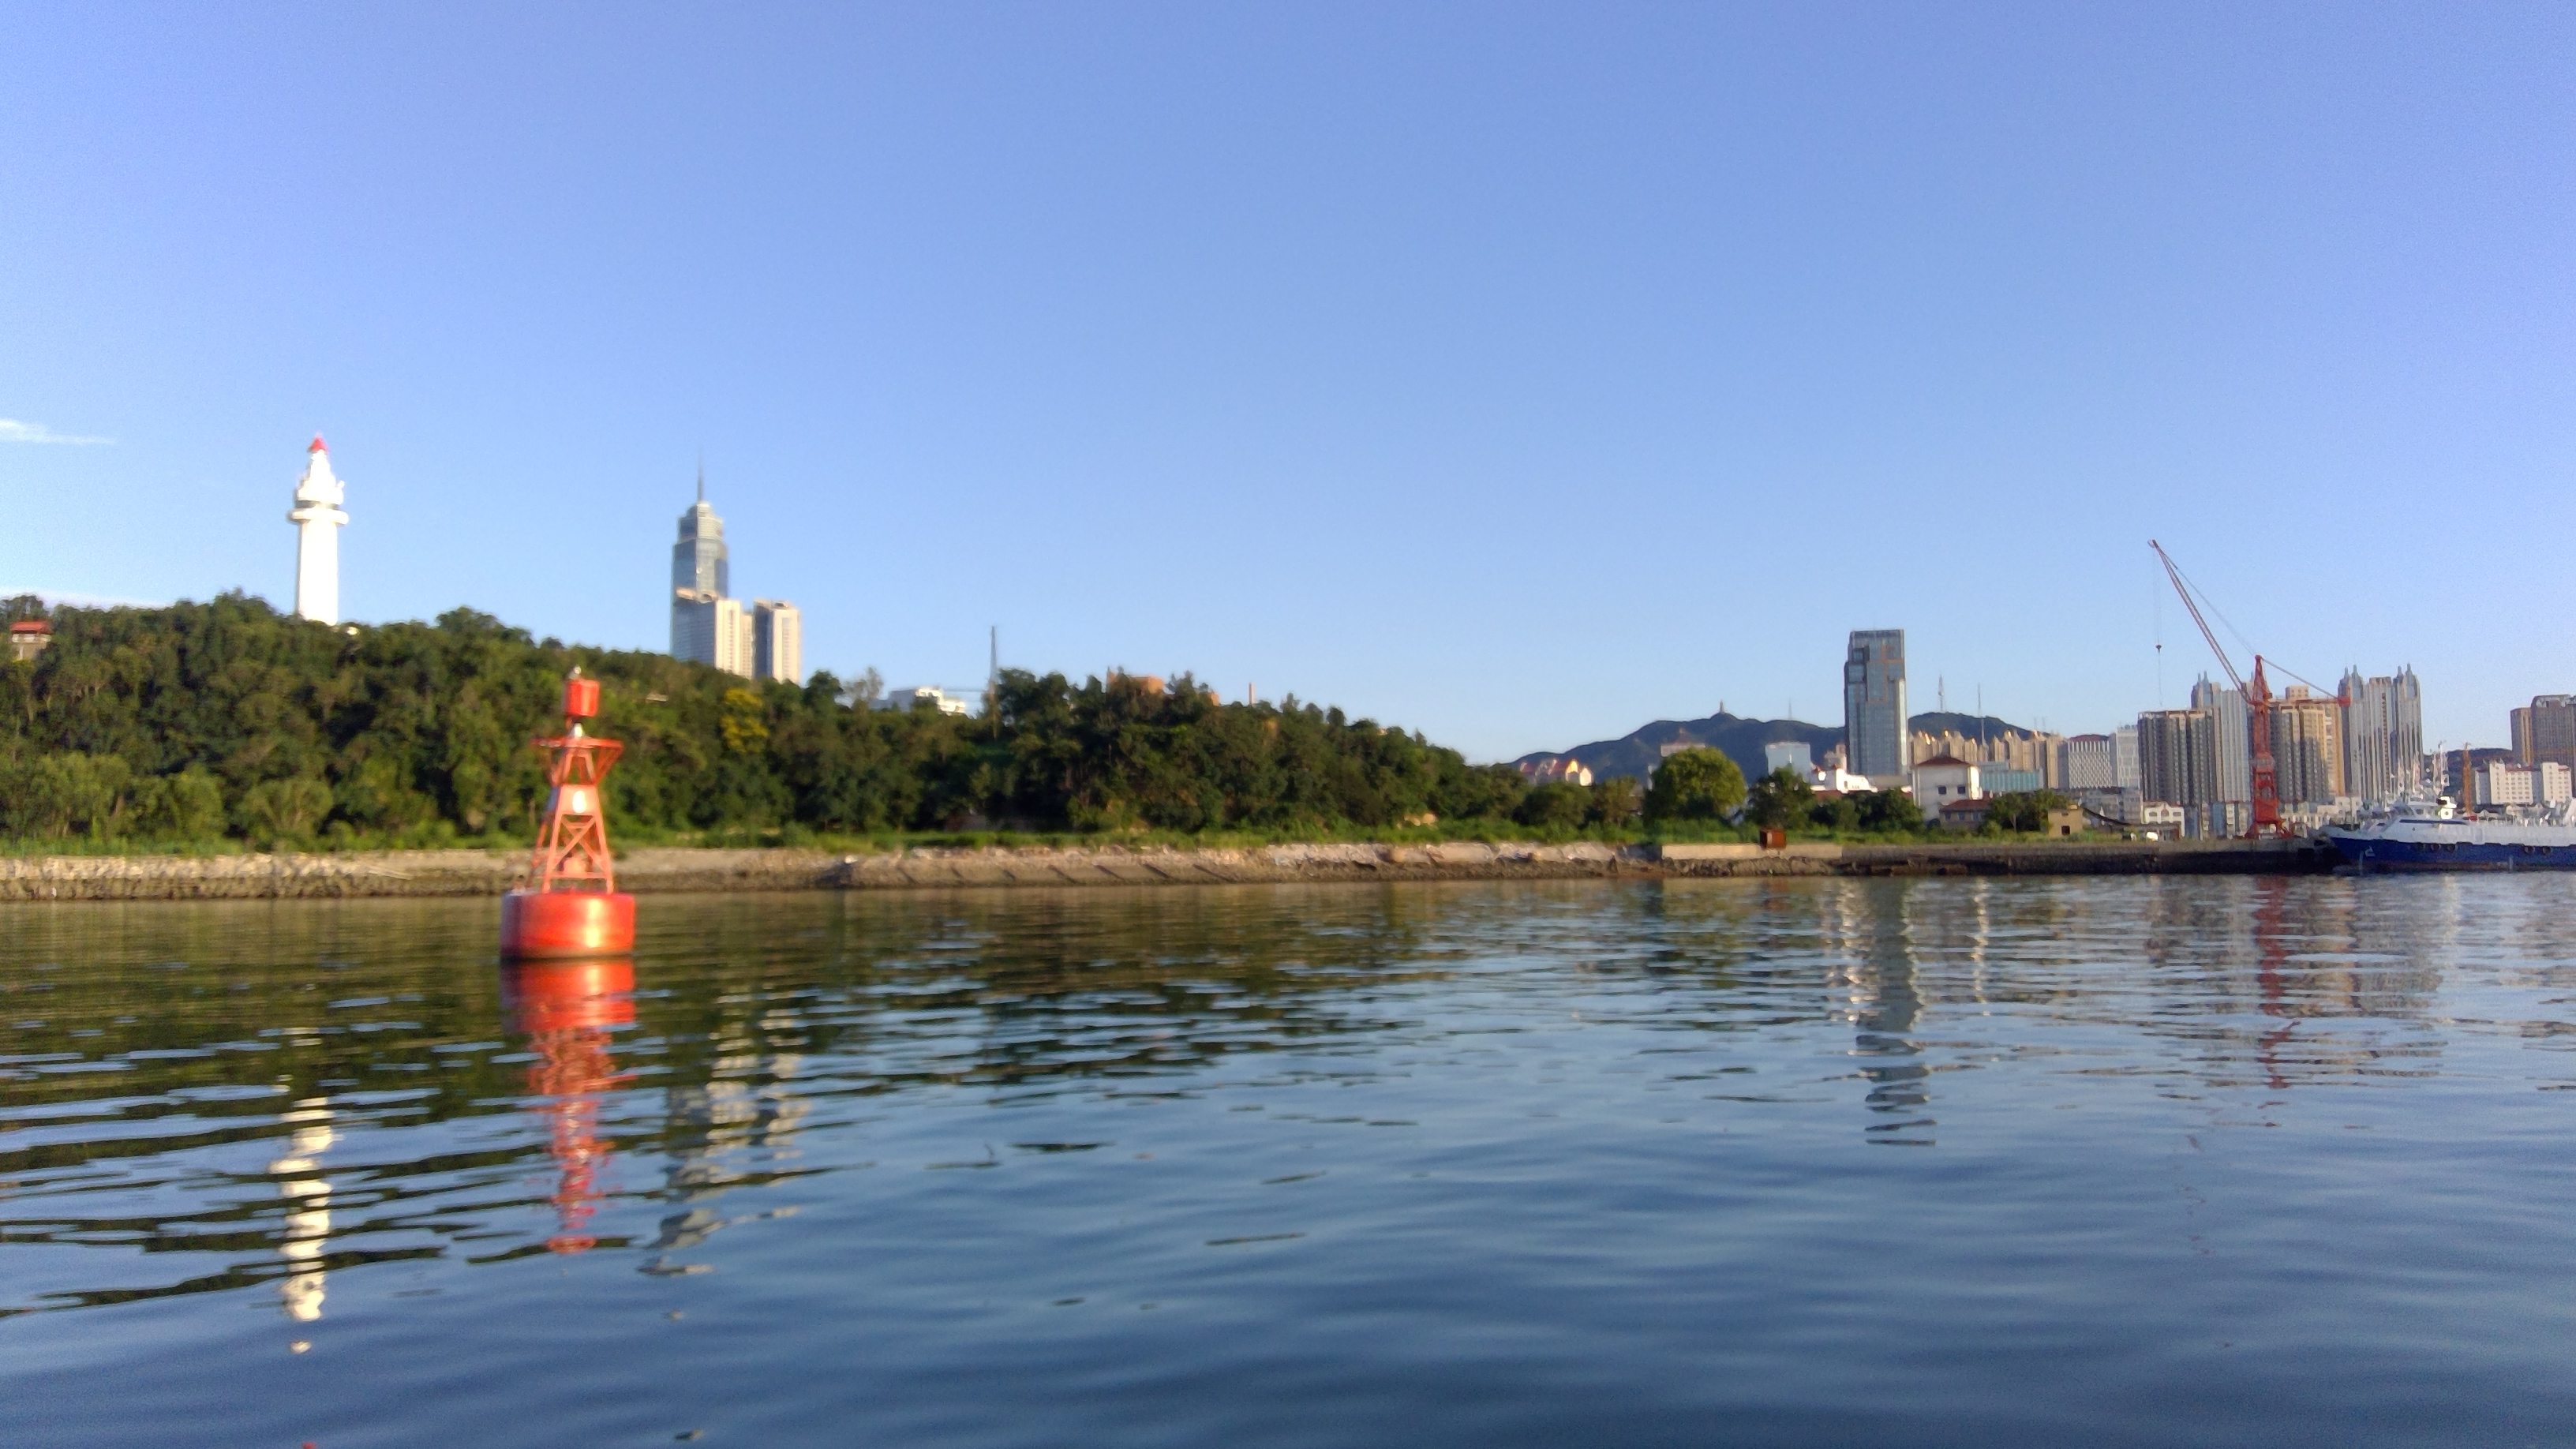buoy: (485, 653, 655, 964)
ship: (2300, 754, 2576, 883)
